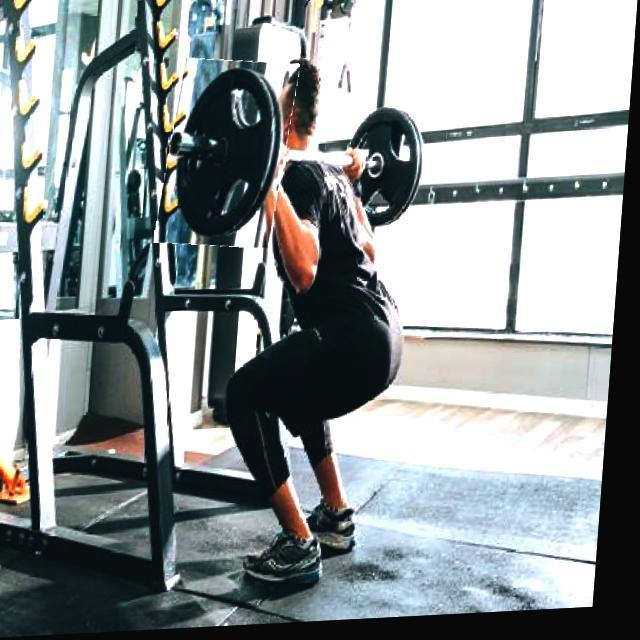barbell: (162, 60, 298, 255)
